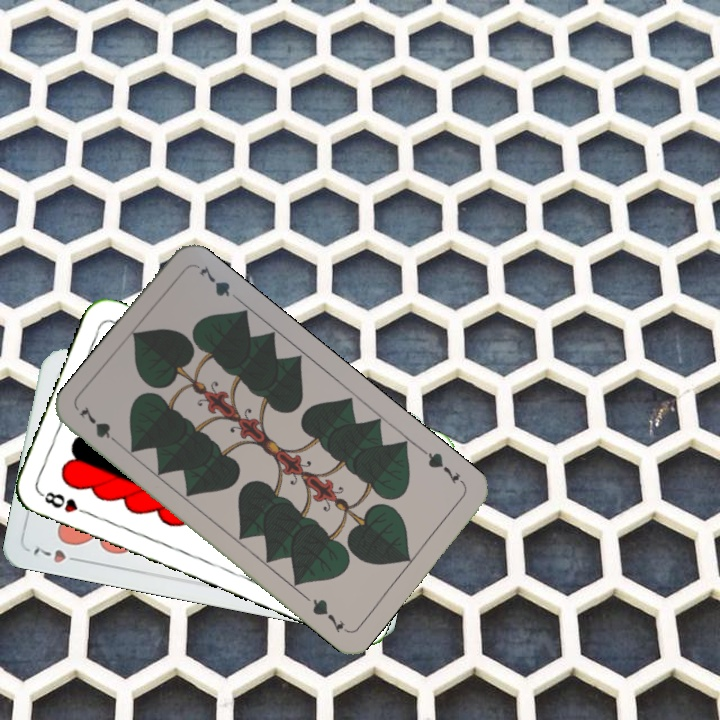G7: (74, 402, 125, 449), (418, 445, 468, 488)
H7: (29, 543, 86, 566)
H8: (36, 487, 93, 518)
